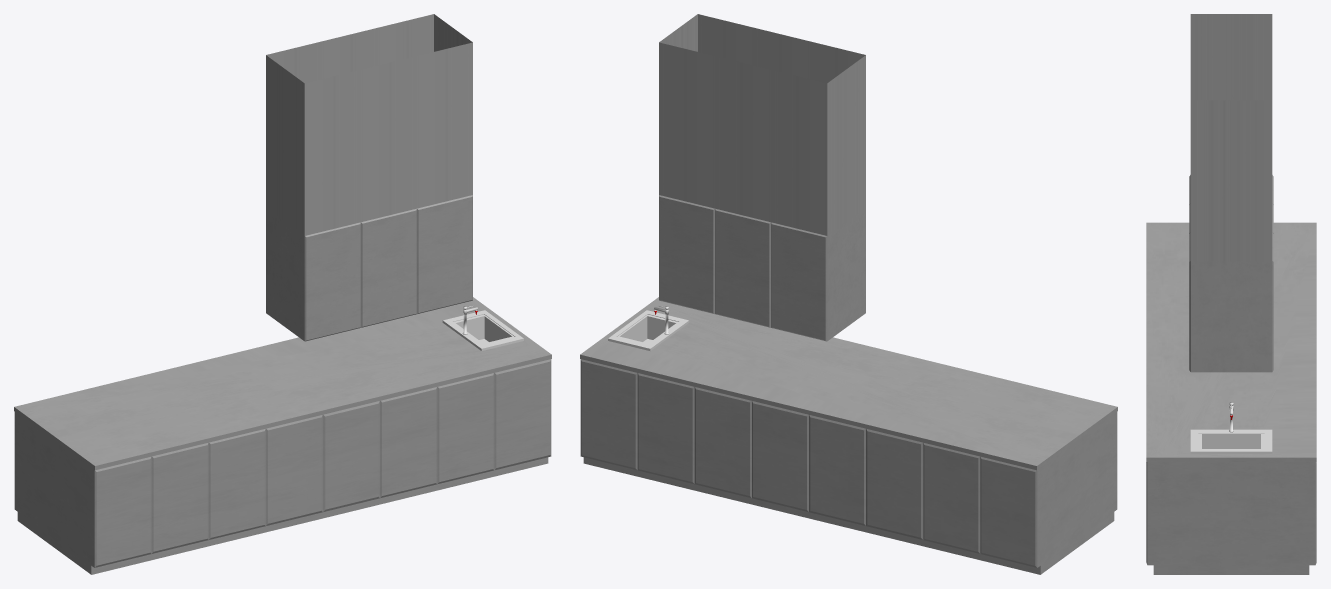
File: lab bench and cabs final.fbx
3 views of the same model, side by side, from view 1: azimuth 30°, elevation 25°; view 2: azimuth 150°, elevation 25°; view 3: azimuth 270°, elevation 25° (orthographic). The views are drawn at different scales.
Visible parts, largest first — view 1: Cube.019, bench cabs, bench top, Cube.018; view 2: Cube.019, bench cabs, bench top, Cube.018; view 3: Cube.019, bench top, bench cabs, Cube.018.
Part boxes in pixels (left/top/right/bottom): Cube.019: left=266, top=14, right=472, bottom=341; bench cabs: left=14, top=359, right=551, bottom=574; bench top: left=14, top=297, right=551, bottom=470; Cube.018: left=442, top=310, right=523, bottom=350; Cube.019: left=659, top=14, right=865, bottom=341; bench cabs: left=580, top=359, right=1117, bottom=574; bench top: left=580, top=297, right=1117, bottom=470; Cube.018: left=608, top=310, right=689, bottom=350; Cube.019: left=1189, top=14, right=1273, bottom=372; bench top: left=1146, top=222, right=1316, bottom=461; bench cabs: left=1146, top=462, right=1316, bottom=574; Cube.018: left=1190, top=429, right=1272, bottom=453.
Size of the model in its own units: 414 by 366 by 127.
